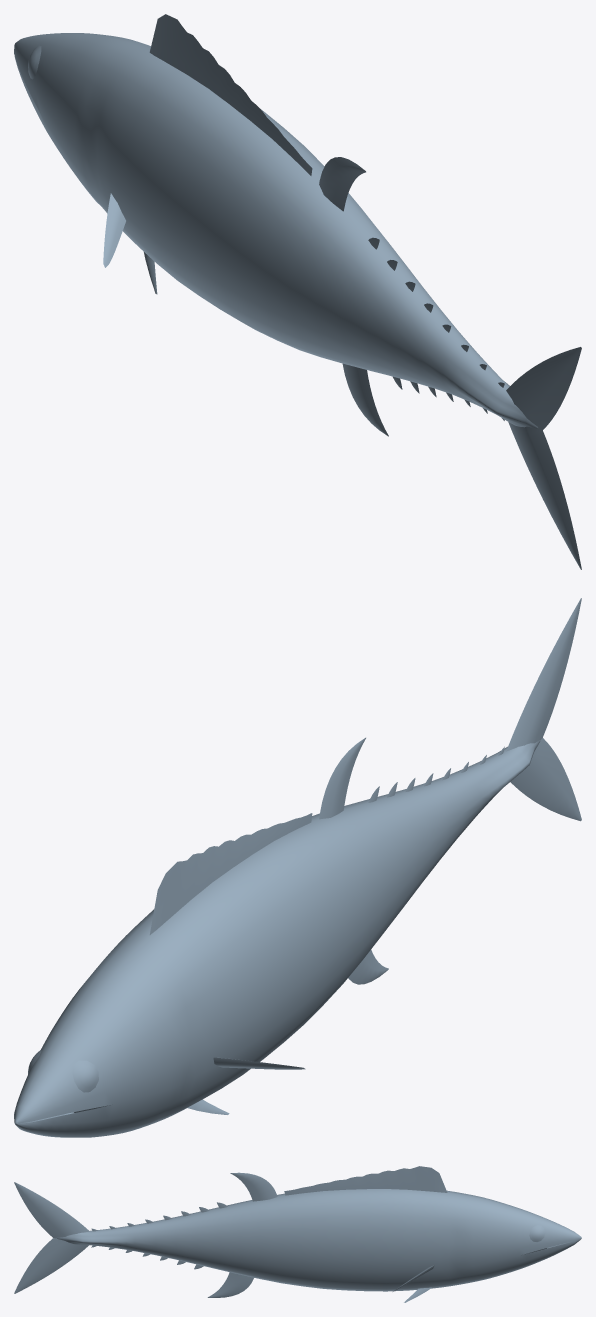
File: pacific_bonito_lo.glb
3 renders of one model, top to bottom at view 1: azimuth 30°, elevation 25°; view 2: azimuth 150°, elevation 25°; view 3: azimuth 270°, elevation 25°, orthographic. The views are drawn at different scales.
Parts seen in each view (by area): view 1: pacific_bonito_lo; view 2: pacific_bonito_lo; view 3: pacific_bonito_lo.
Boxes of the visible parts, box(x1,y1,x2,y2) form: pacific_bonito_lo: box(14, 14, 581, 569); pacific_bonito_lo: box(14, 598, 581, 1137); pacific_bonito_lo: box(14, 1166, 581, 1302).
Bounding box in the file's own units: 0.1532 × 0.1921 × 0.7494.
